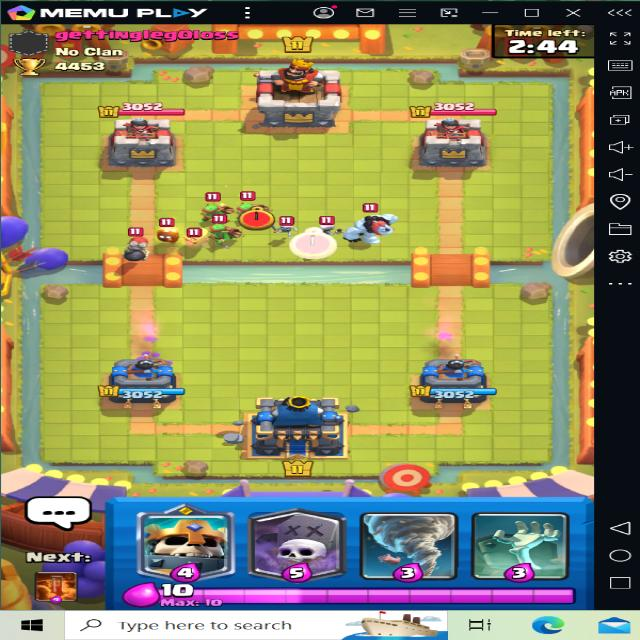Bomber: (113, 230, 157, 258)
Firespirit: (147, 218, 177, 244)
Healspirit: (179, 225, 209, 252)
Icegolem: (340, 201, 410, 252)
Skeleton: (274, 211, 306, 238), (317, 213, 343, 235)
Speargoblin: (236, 190, 264, 220), (209, 219, 239, 241), (198, 197, 221, 217)
